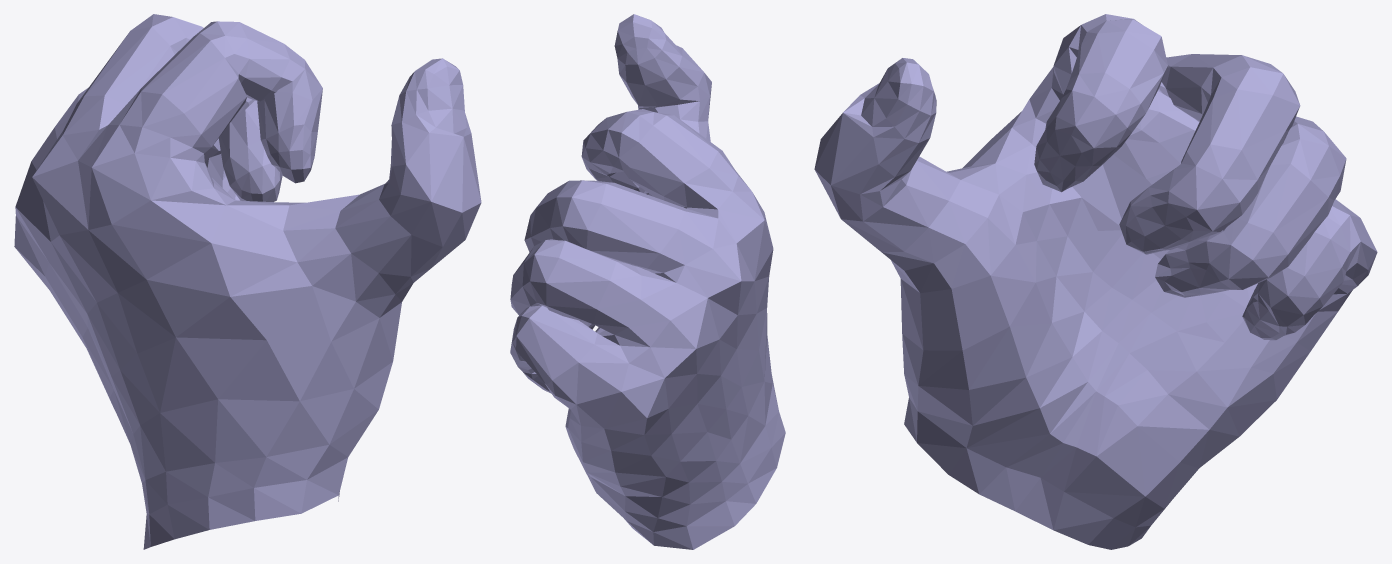
Rendered from frame_0001_source_000001_hand.glb.
3 views of the same model, side by side, from view 1: azimuth 30°, elevation 25°; view 2: azimuth 150°, elevation 25°; view 3: azimuth 270°, elevation 25° (orthographic). The views are drawn at different scales.
Visible parts, largest first — view 1: world; view 2: world; view 3: world.
Part boxes in pixels (left/top/right/bottom): world: left=14, top=14, right=481, bottom=549; world: left=510, top=14, right=785, bottom=549; world: left=814, top=14, right=1377, bottom=549.
Size of the model in its own units: 0.0689 by 0.1199 by 0.1121.
